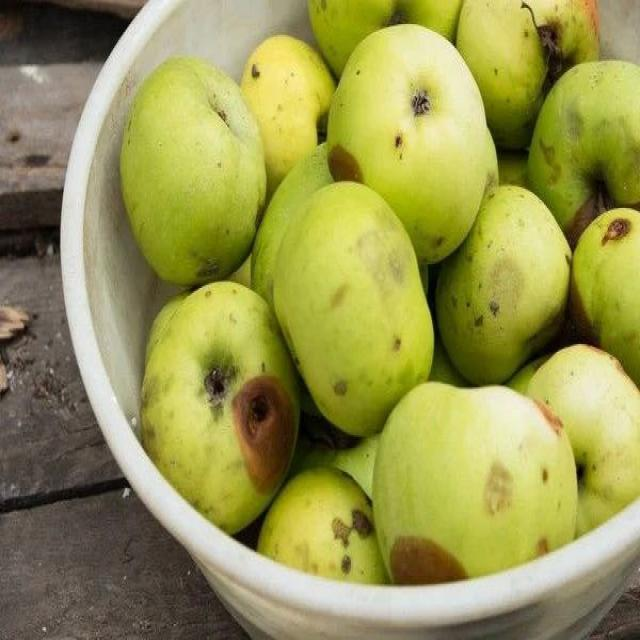Rotten: (372, 373, 568, 592), (112, 57, 275, 295), (143, 297, 307, 505), (325, 40, 495, 240), (280, 198, 435, 412), (443, 187, 567, 365), (558, 198, 640, 371)
